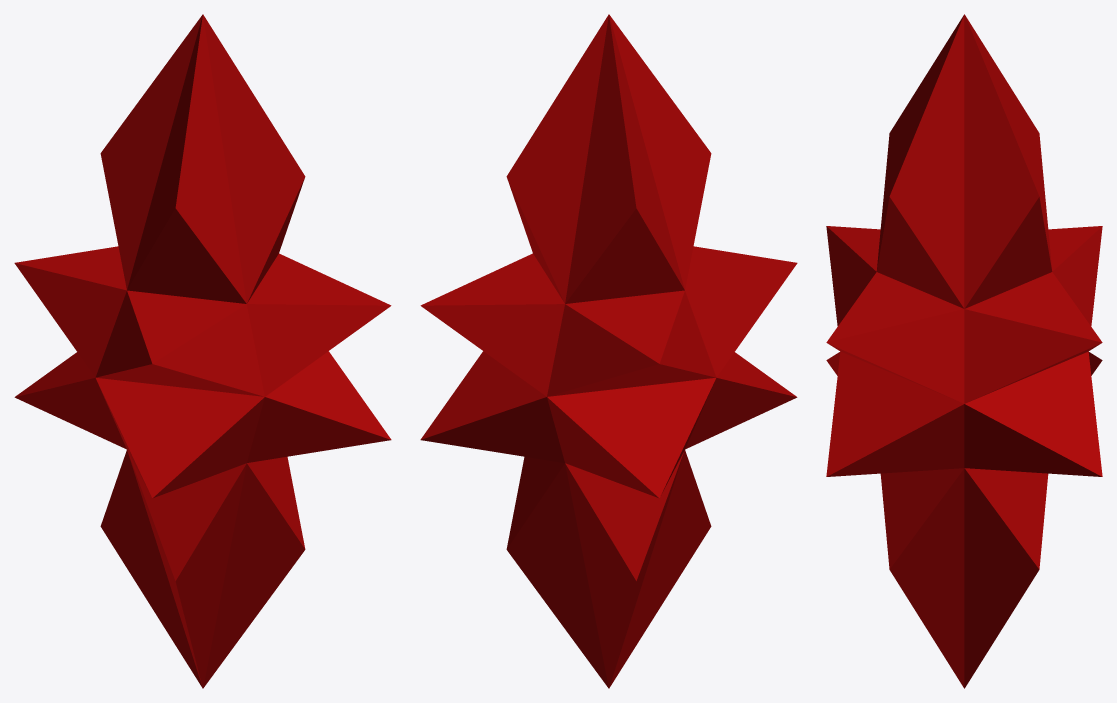
The model's file is propCrystal02.fbx.
3 views of the same model, side by side, from view 1: azimuth 30°, elevation 25°; view 2: azimuth 150°, elevation 25°; view 3: azimuth 270°, elevation 25° (orthographic).
Visible parts, largest first — view 1: propCrystal02; view 2: propCrystal02; view 3: propCrystal02.
Boxes of the visible parts, box(x1,y1,x2,y2) form: propCrystal02: box(14, 14, 391, 688); propCrystal02: box(420, 14, 797, 688); propCrystal02: box(826, 14, 1102, 688).
Size of the model in its own units: 1.11 by 3 by 1.11.
